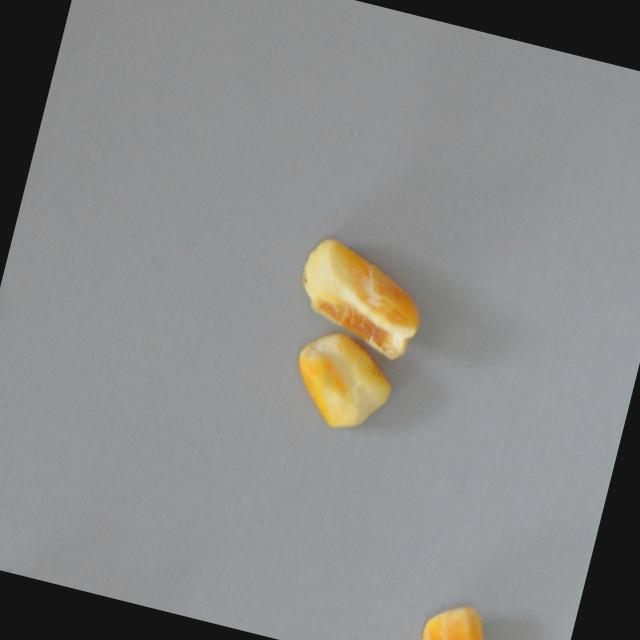pelicula: (282, 222, 439, 364), (415, 596, 505, 640)
